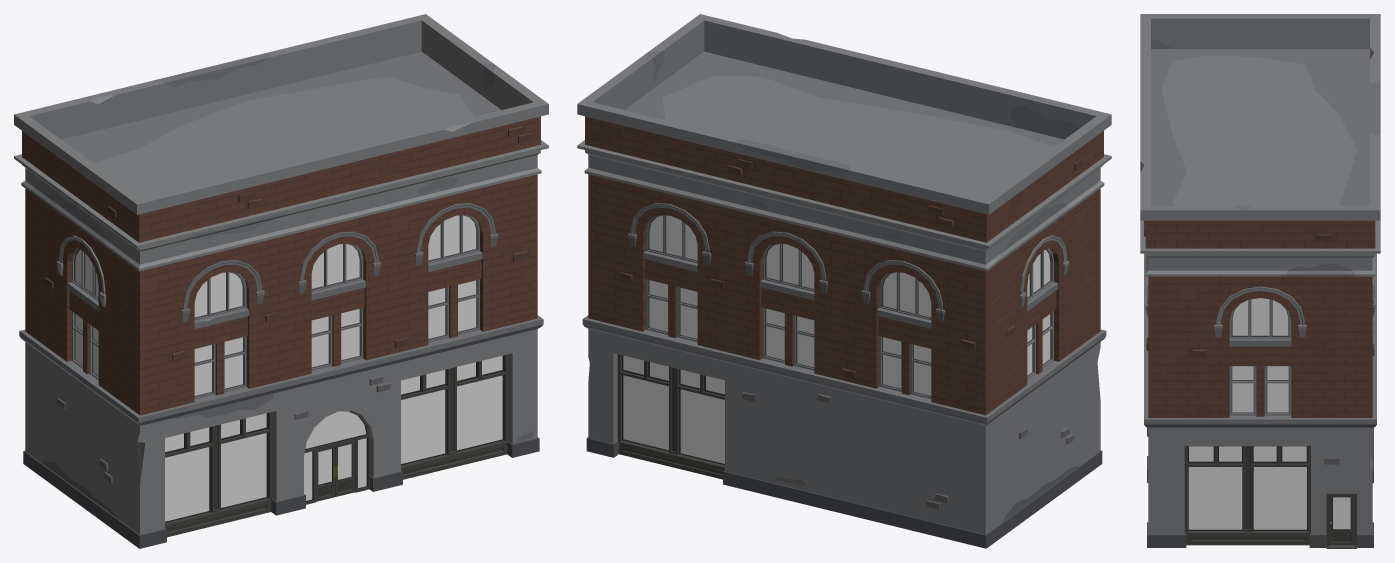
The model's file is SM_Bldg_City_Shop_09.fbx.
3 views of the same model, side by side, from view 1: azimuth 30°, elevation 25°; view 2: azimuth 150°, elevation 25°; view 3: azimuth 270°, elevation 25° (orthographic). The views are drawn at different scales.
Visible parts, largest first — view 1: SM_Bldg_City_Shop_09; view 2: SM_Bldg_City_Shop_09; view 3: SM_Bldg_City_Shop_09.
Part boxes in pixels (box(x1,y1,x2,y2)): SM_Bldg_City_Shop_09: box(14, 14, 548, 548); SM_Bldg_City_Shop_09: box(577, 14, 1111, 548); SM_Bldg_City_Shop_09: box(1140, 14, 1380, 548).
Size of the model in its own units: 1658 by 1340 by 858.
